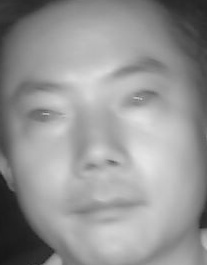eye: (25, 104, 66, 127), (120, 89, 160, 112)
mouth: (66, 188, 145, 230)
